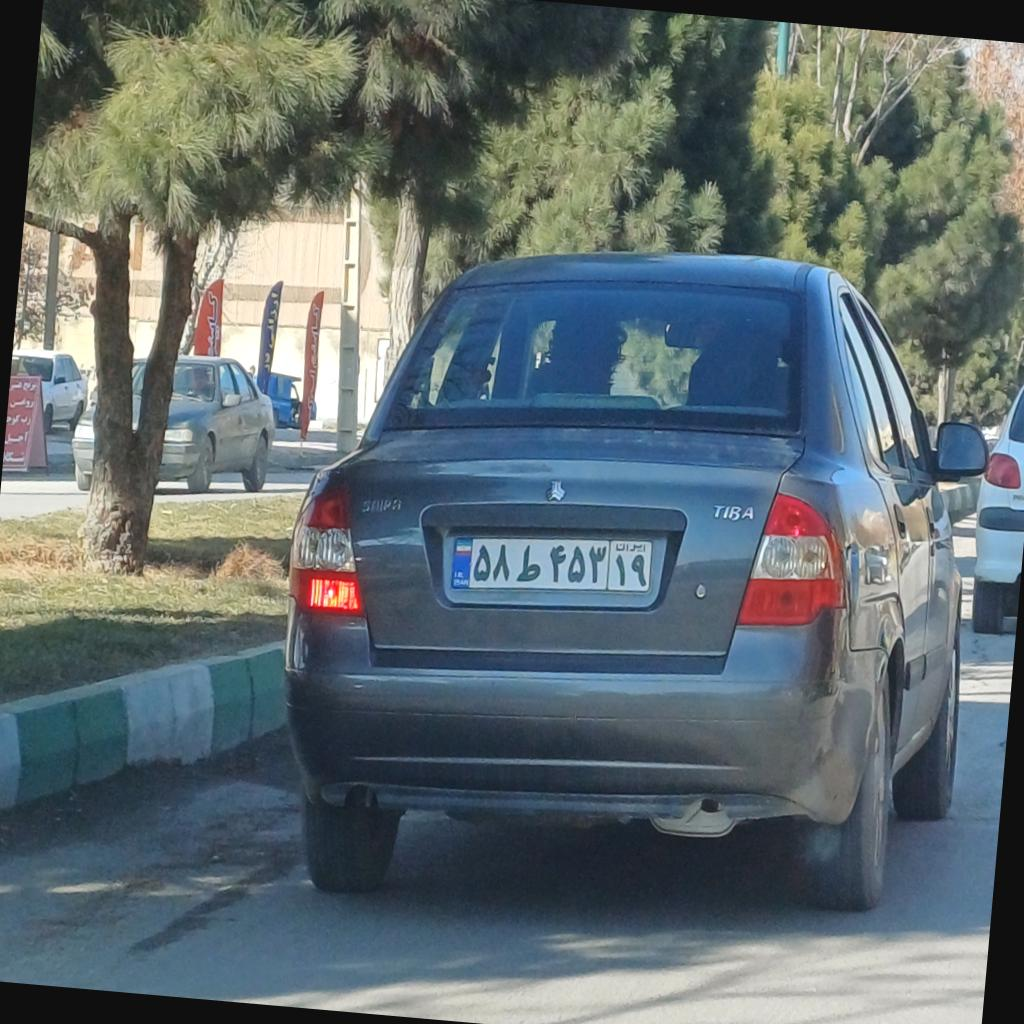Plates: (450, 523, 652, 605)
